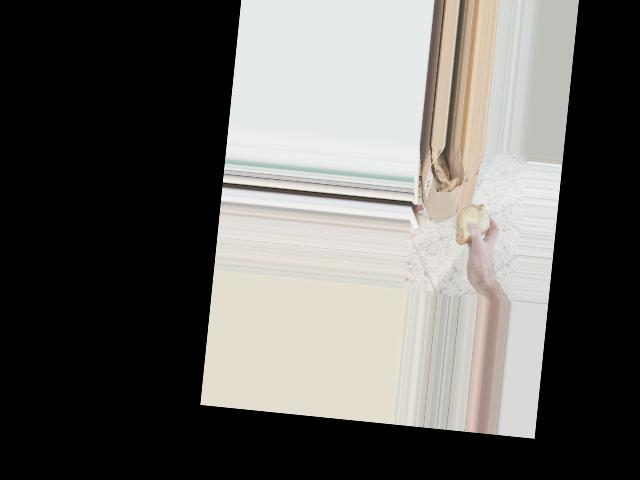onion: (451, 200, 496, 251)
